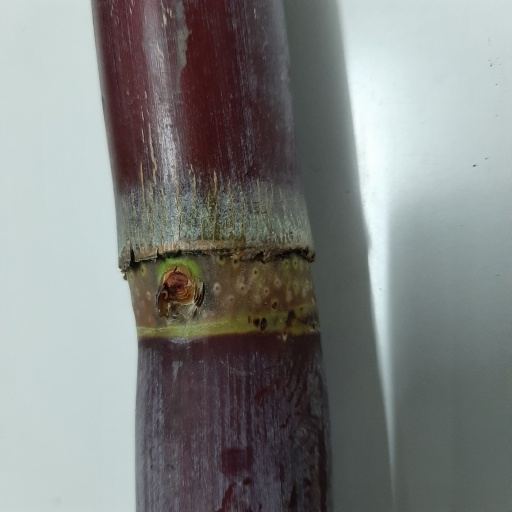Damage_Bud: (157, 268, 197, 309)
